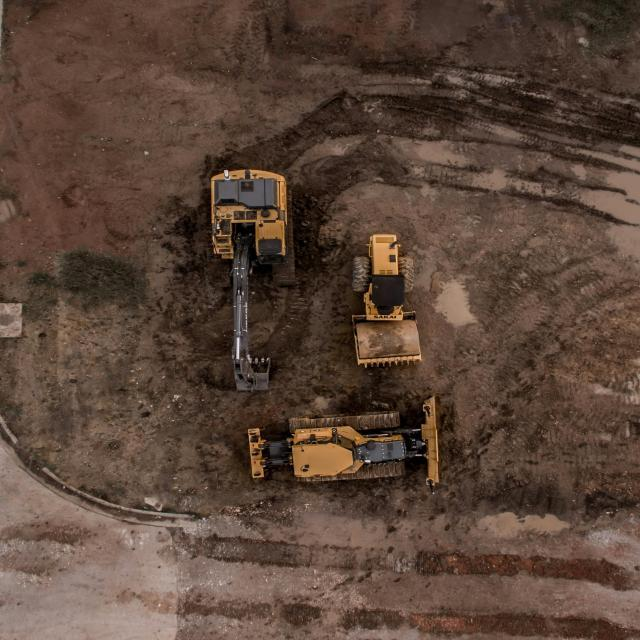excavator: (211, 169, 288, 390)
